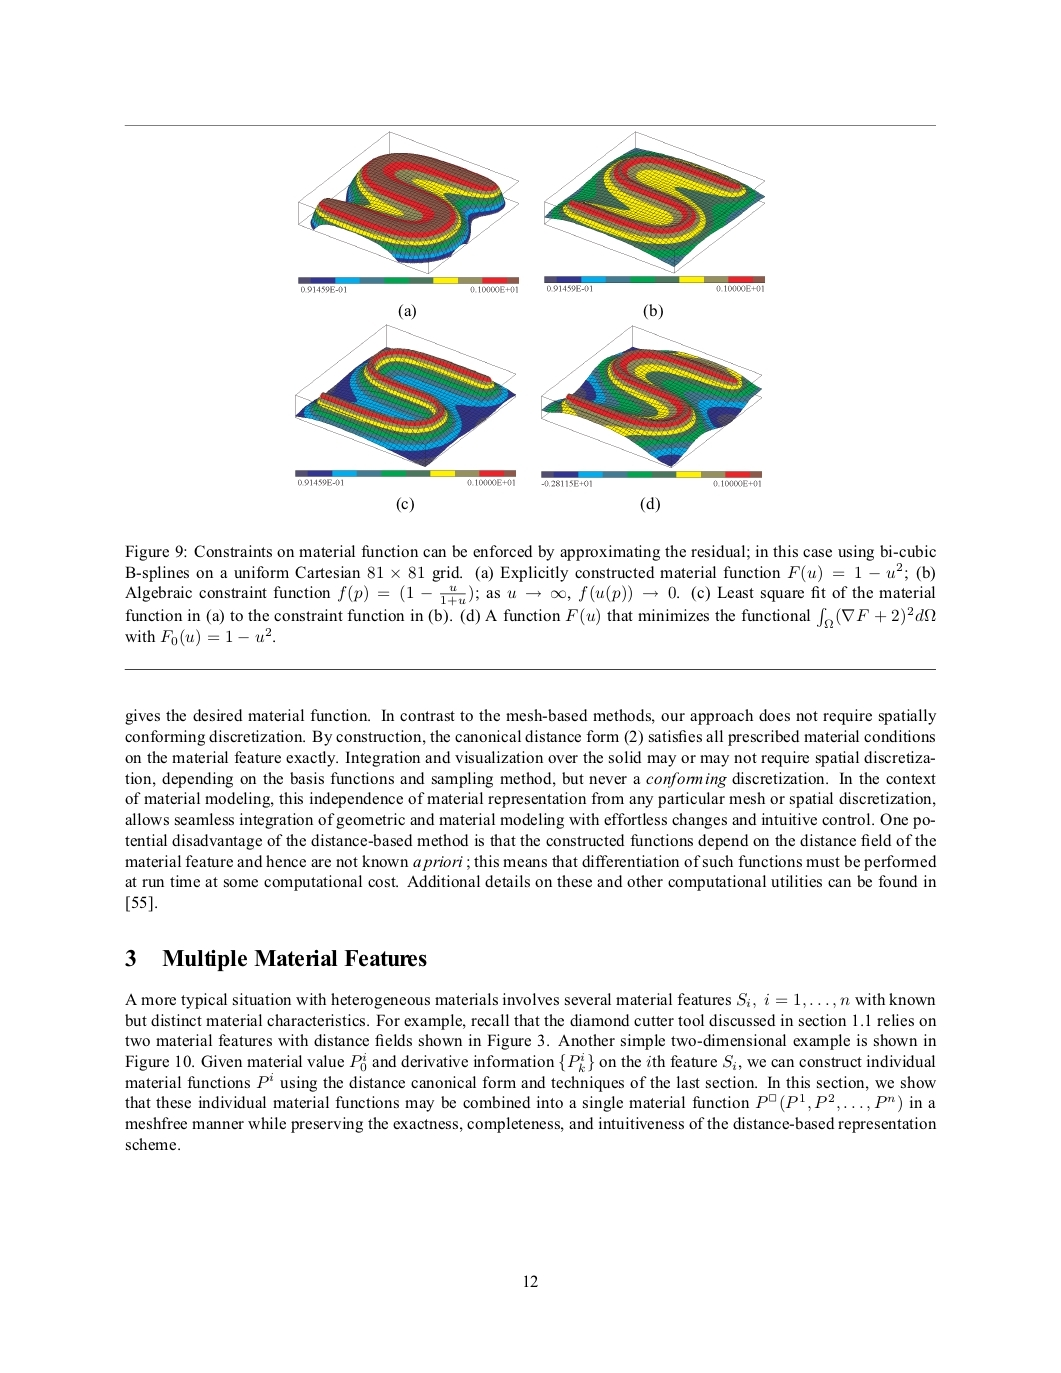figure: (295, 318, 515, 485), (298, 130, 518, 293), (541, 324, 761, 487), (544, 130, 765, 292)
formula: (125, 629, 274, 646)
